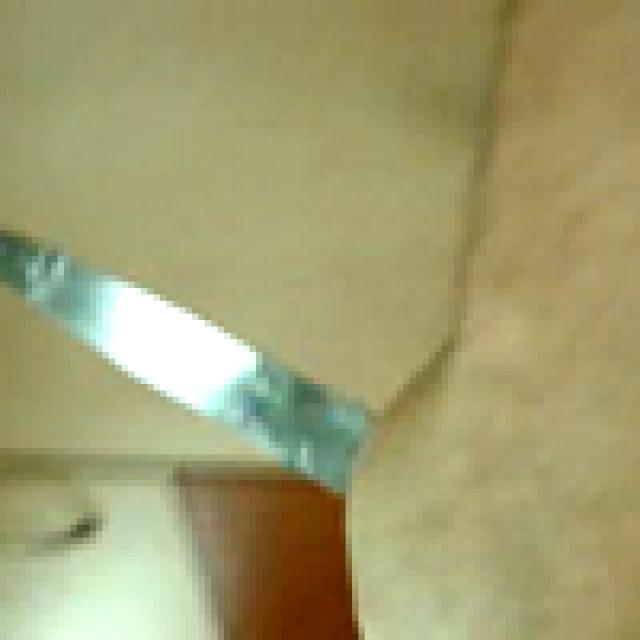Knife: (0, 230, 365, 493)
